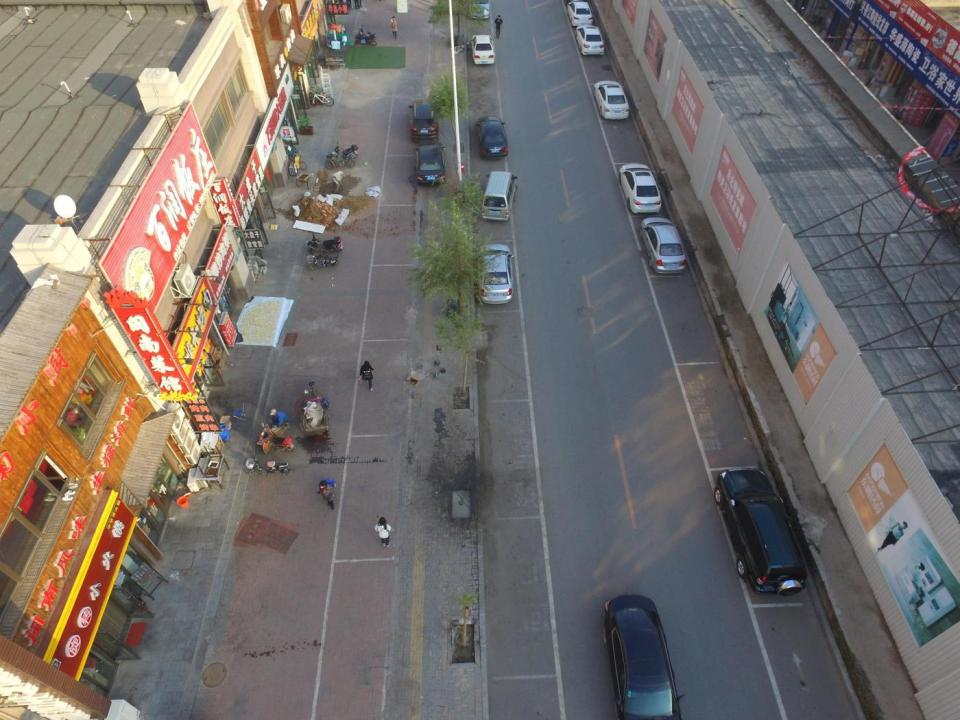car: (712, 467, 810, 598), (600, 593, 694, 720), (639, 216, 688, 274), (474, 242, 516, 305), (617, 162, 662, 214), (473, 114, 509, 160), (414, 138, 447, 187), (592, 79, 630, 121), (408, 98, 438, 142), (574, 23, 604, 56), (470, 34, 495, 66), (565, 0, 594, 27), (466, 1, 491, 20)
van: (479, 170, 518, 222)
